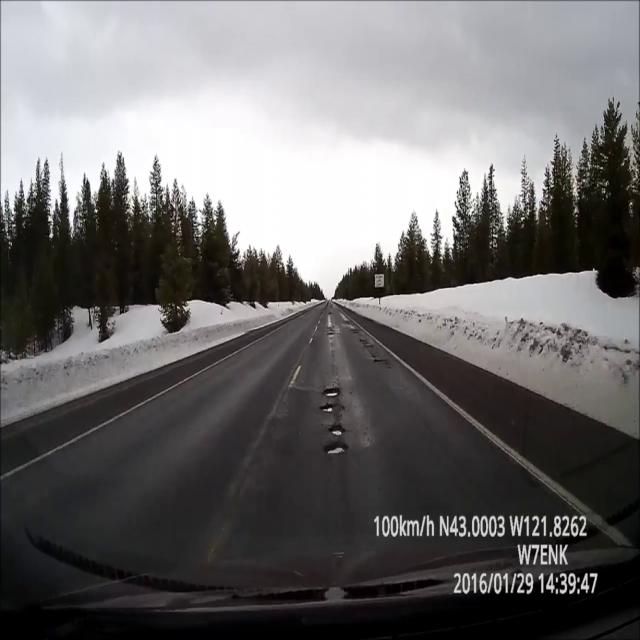Pothole: (320, 401, 345, 414), (326, 442, 348, 456), (321, 387, 340, 398), (330, 424, 342, 437), (360, 339, 374, 348), (325, 328, 336, 336), (374, 359, 388, 363), (351, 328, 360, 334), (328, 312, 333, 314)
